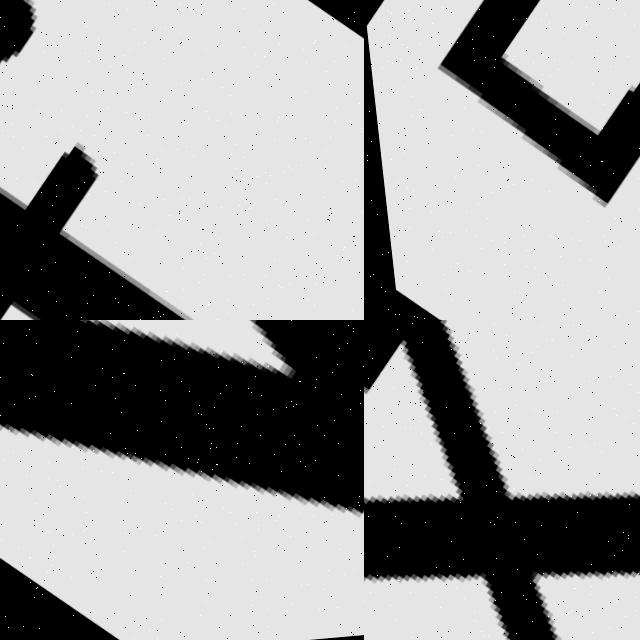5: (386, 0, 640, 320)
F: (0, 147, 174, 320)
V: (0, 320, 364, 640)
X: (364, 320, 640, 640)
